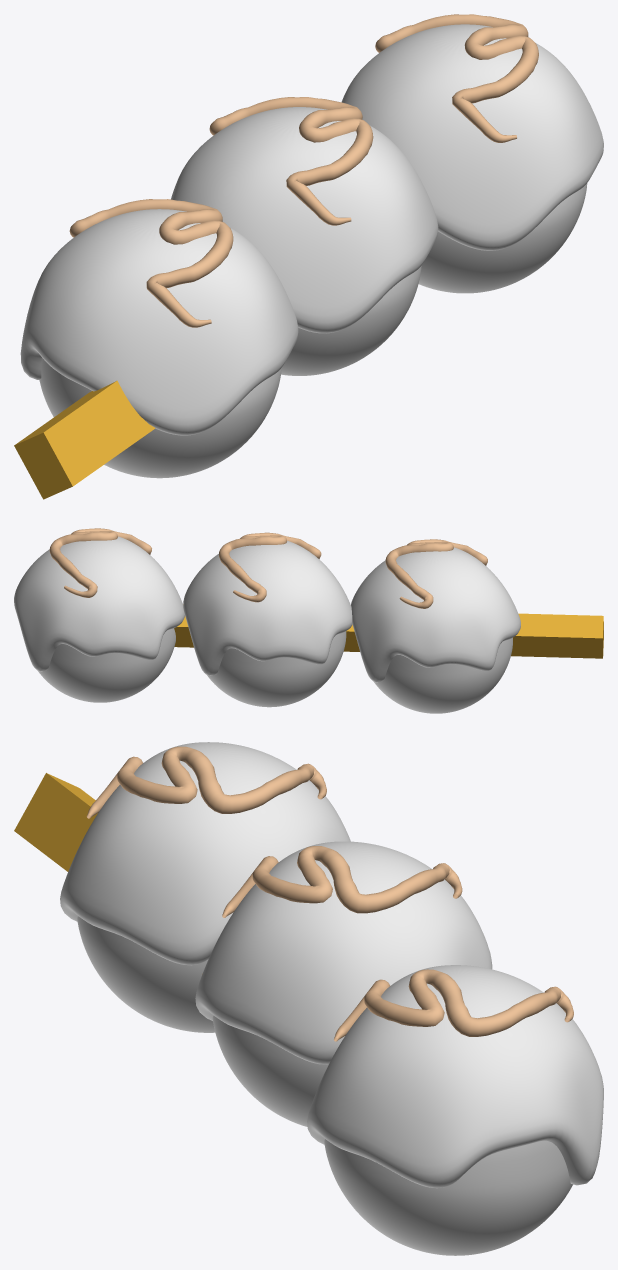
Rendered from 章鱼小丸子.fbx.
3 renders of one model, top to bottom at view 1: azimuth 30°, elevation 25°; view 2: azimuth 150°, elevation 25°; view 3: azimuth 270°, elevation 25°, orthographic. The views are drawn at different scales.
Visible parts, largest first — view 1: 球体.001, 球体.005, 球体.003, 立方体, 球体, 球体.004, 贝塞尔曲线.001, 贝塞尔曲线, 贝塞尔曲线.002, 球体.002; view 2: 球体.005, 球体.001, 球体.003, 球体.002, 球体, 球体.004, 立方体, 贝塞尔曲线, 贝塞尔曲线.002, 贝塞尔曲线.001; view 3: 球体.005, 球体.003, 球体.001, 球体.004, 球体, 贝塞尔曲线.001, 贝塞尔曲线.002, 贝塞尔曲线, 球体.002, 立方体.
Boxes of the visible parts, x1,y1,x2,y2 form: 球体.001: (20, 209, 298, 435); 球体.005: (341, 24, 603, 250); 球体.003: (171, 107, 438, 333); 立方体: (14, 380, 155, 499); 球体: (39, 357, 281, 478); 球体.004: (418, 183, 587, 293); 贝塞尔曲线.001: (209, 97, 373, 225); 贝塞尔曲线: (69, 199, 233, 327); 贝塞尔曲线.002: (375, 14, 538, 142); 球体.002: (281, 266, 421, 375); 球体.005: (14, 536, 184, 671); 球体.001: (351, 547, 520, 682); 球体.003: (183, 540, 352, 675); 球体.002: (207, 631, 346, 707); 球体: (374, 638, 512, 713); 球体.004: (38, 628, 175, 702); 立方体: (174, 613, 603, 658); 贝塞尔曲线: (385, 539, 487, 608); 贝塞尔曲线.002: (49, 528, 151, 597); 贝塞尔曲线.001: (219, 532, 321, 602); 球体.005: (307, 965, 603, 1188); 球体.003: (195, 841, 492, 1064); 球体.001: (60, 742, 350, 965); 球体.004: (324, 1139, 572, 1255); 球体: (77, 916, 215, 1032); 贝塞尔曲线.001: (222, 846, 462, 917); 贝塞尔曲线.002: (334, 969, 573, 1041); 贝塞尔曲线: (86, 746, 326, 818); 球体.002: (212, 1015, 328, 1126); 立方体: (14, 773, 97, 871).
Size of the model in its own units: 697 by 232 by 438.
